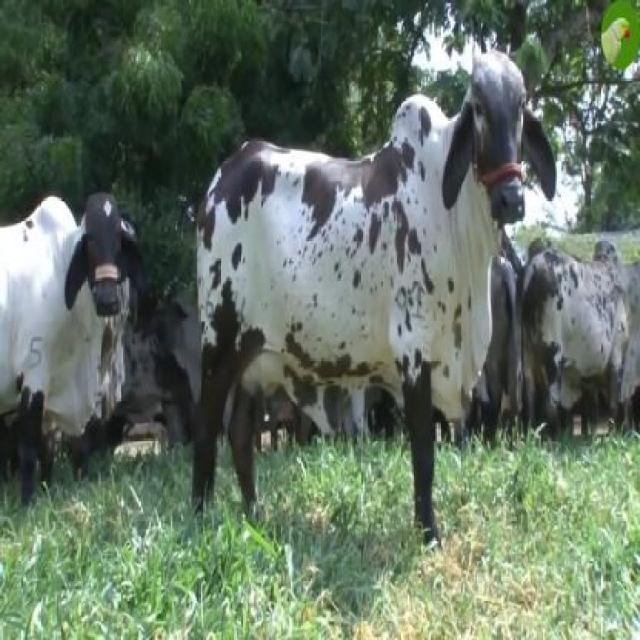Cow: (194, 52, 555, 546)
